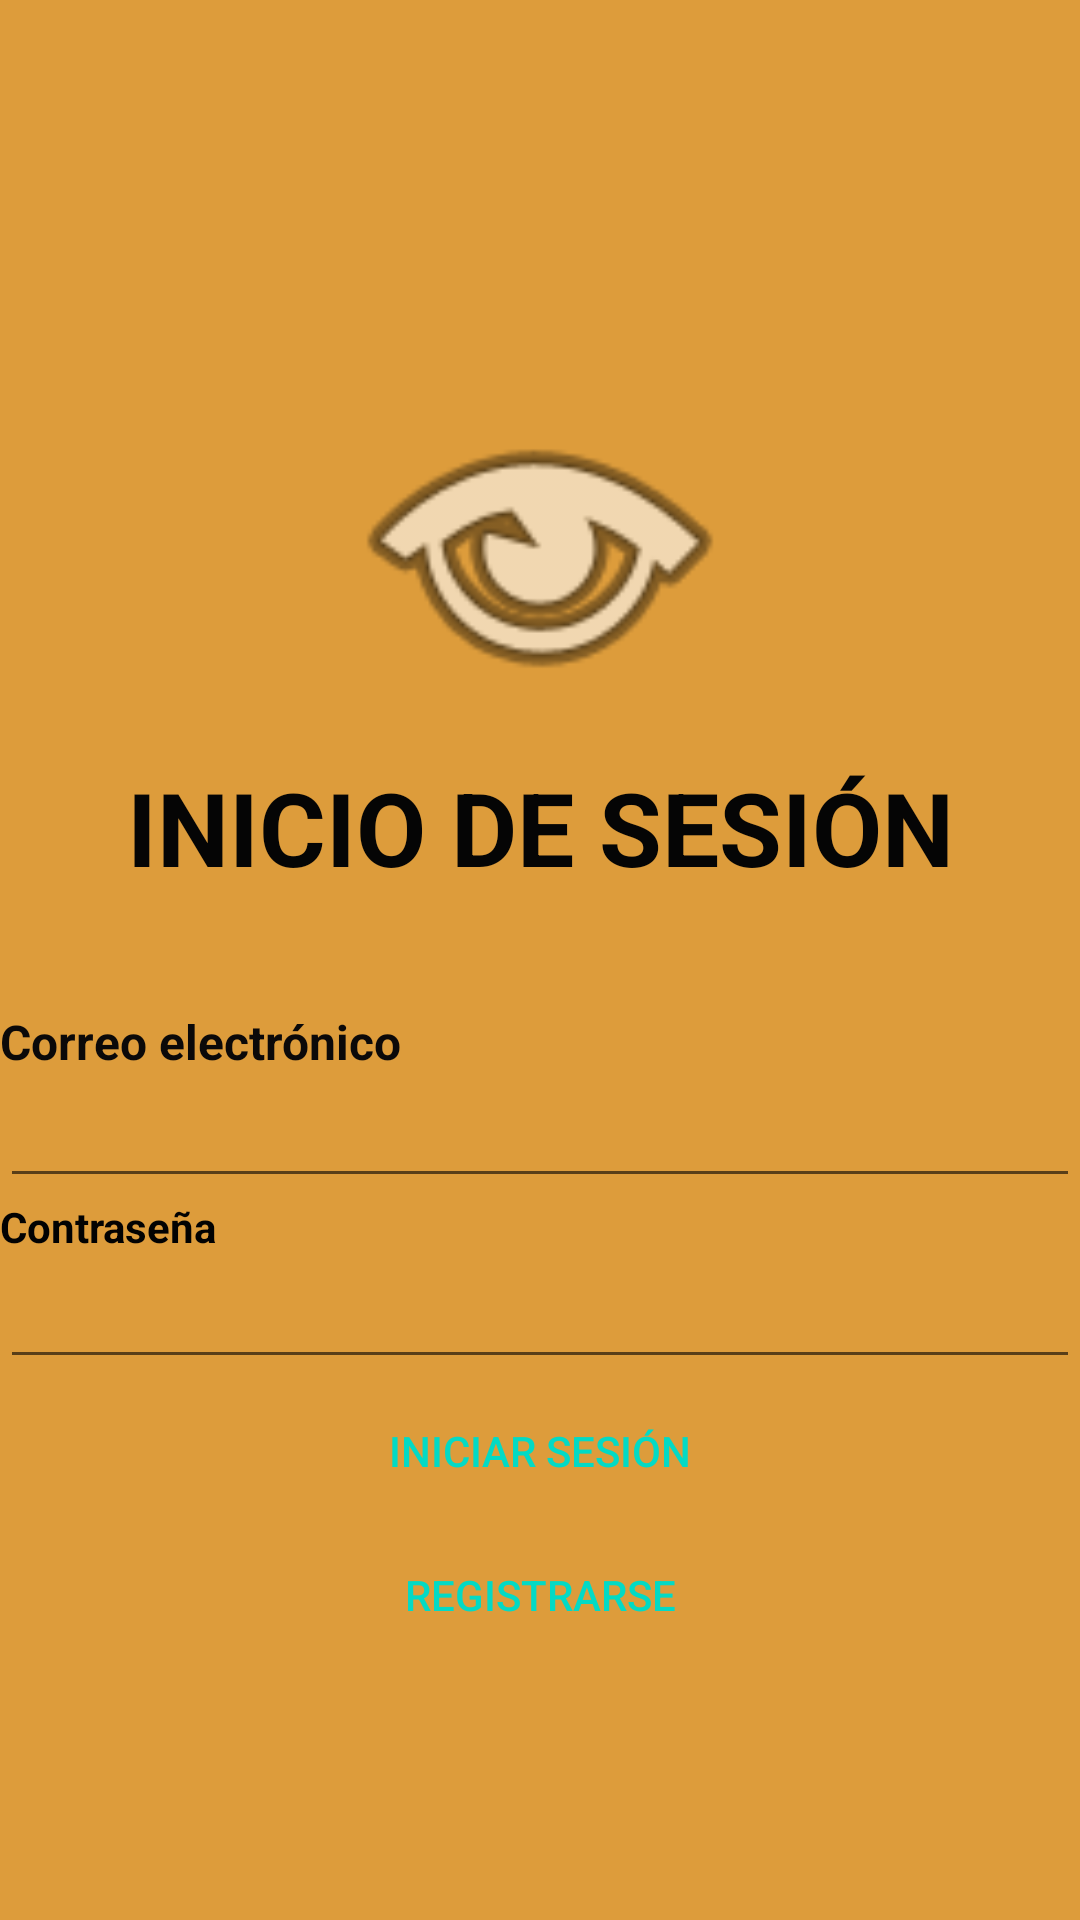

Point at icon controls on the screen. Image size 1080×1920, points as [x,y].
view: [540,558]
